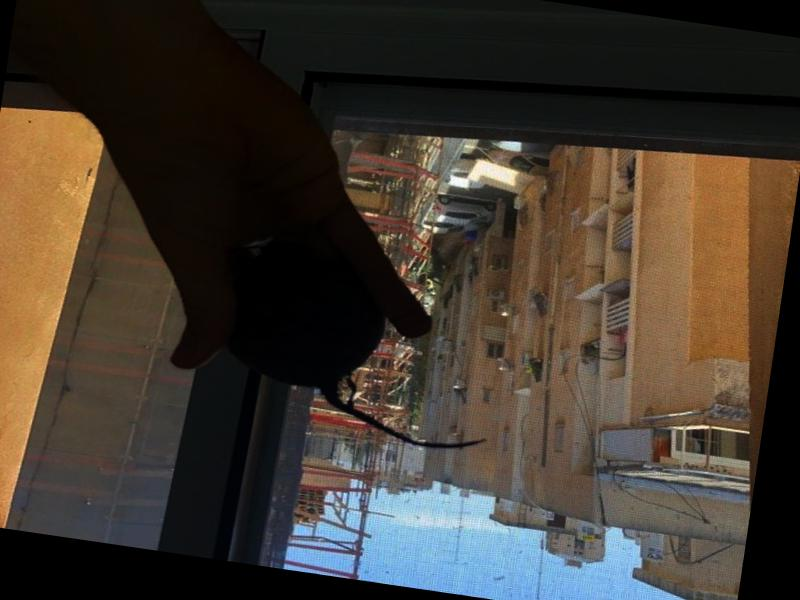Beet: (217, 236, 511, 457)
